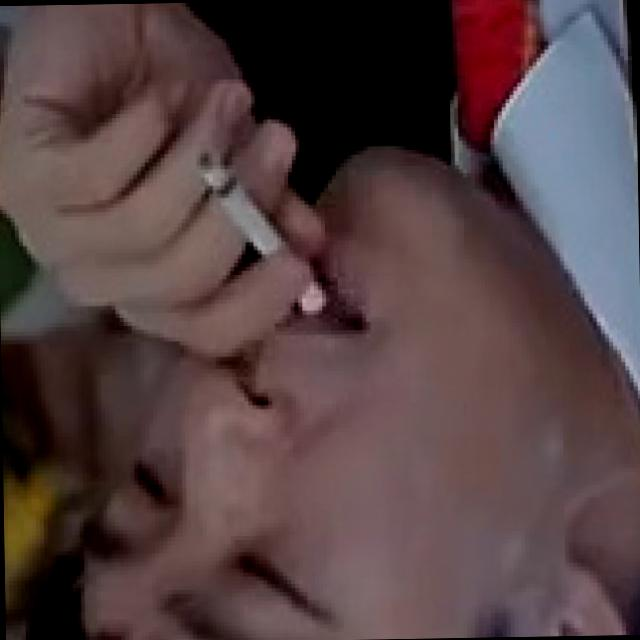smoke: (193, 146, 270, 271)
